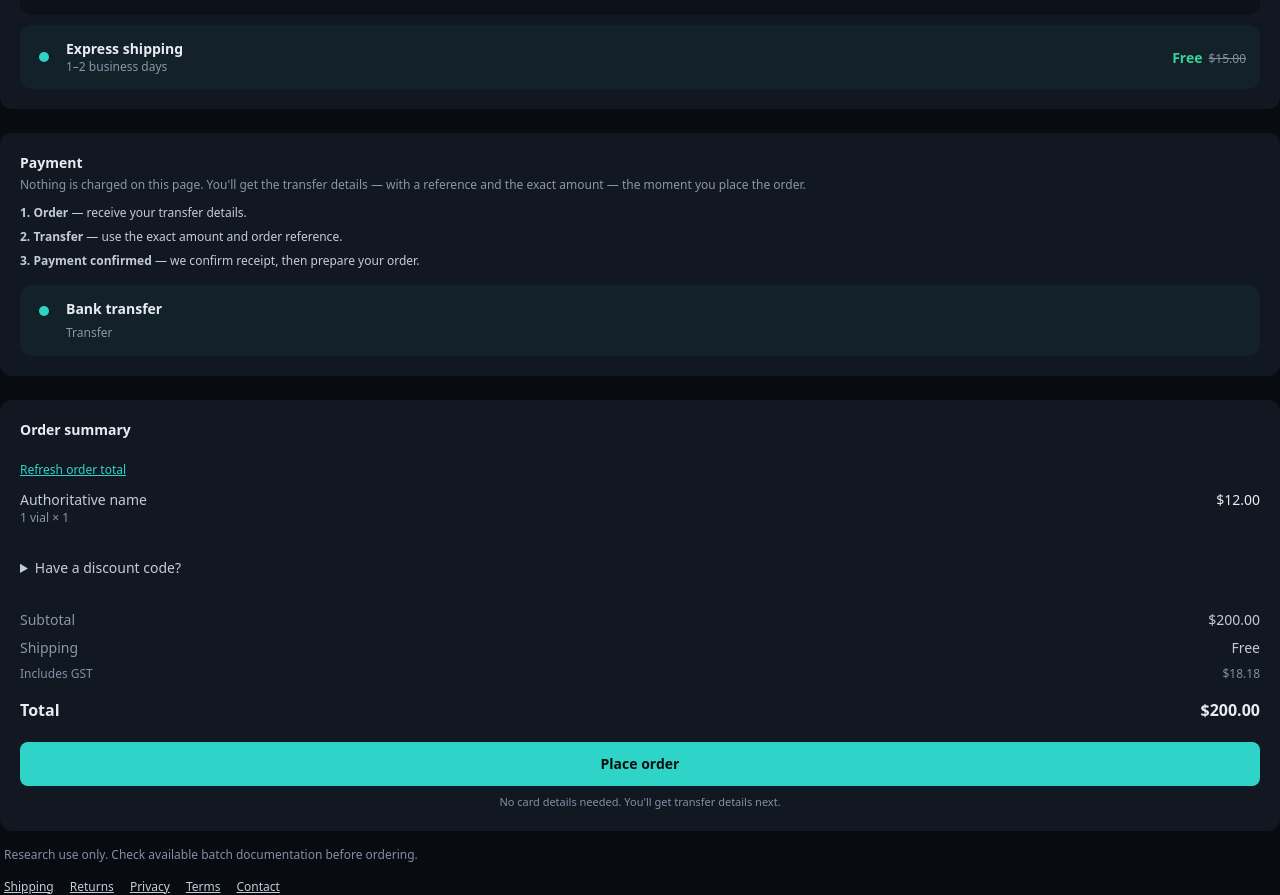
Test case: returns automatic Express to Standard after a discount removes eligibility and upgrades again when removed
(page scrolled)
Check: the radio button labelled "Express shipping 1–2 business days Free$15.00" is checked, box [20,24,1260,88]
Check: the button "Place order" is enabled, box [20,742,1260,786]
Click the heading "Have a discount code?" at [108, 568], box [35,558,181,577]
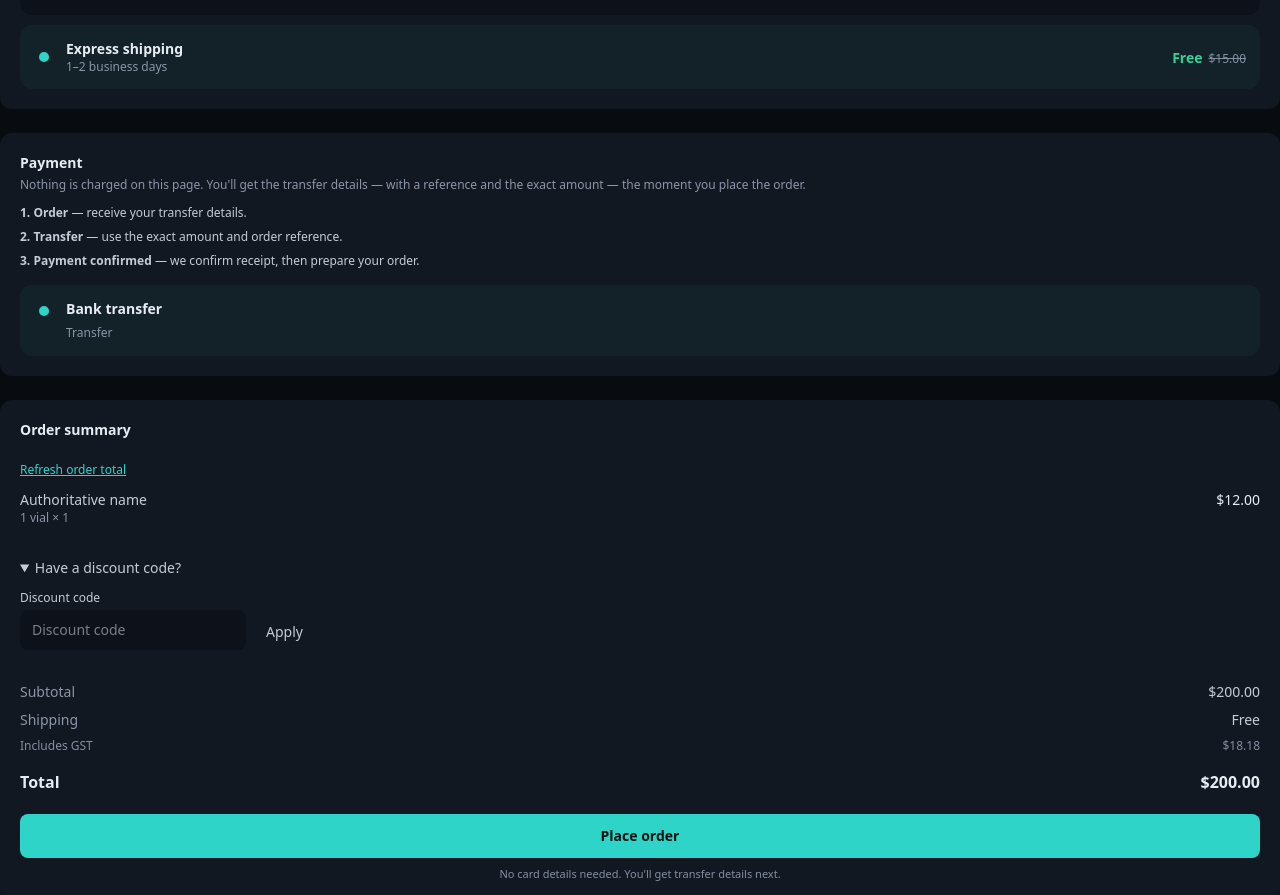
Type "TENOFF" into the field labelled "Discount code" at [133, 630], box [20,610,246,650]
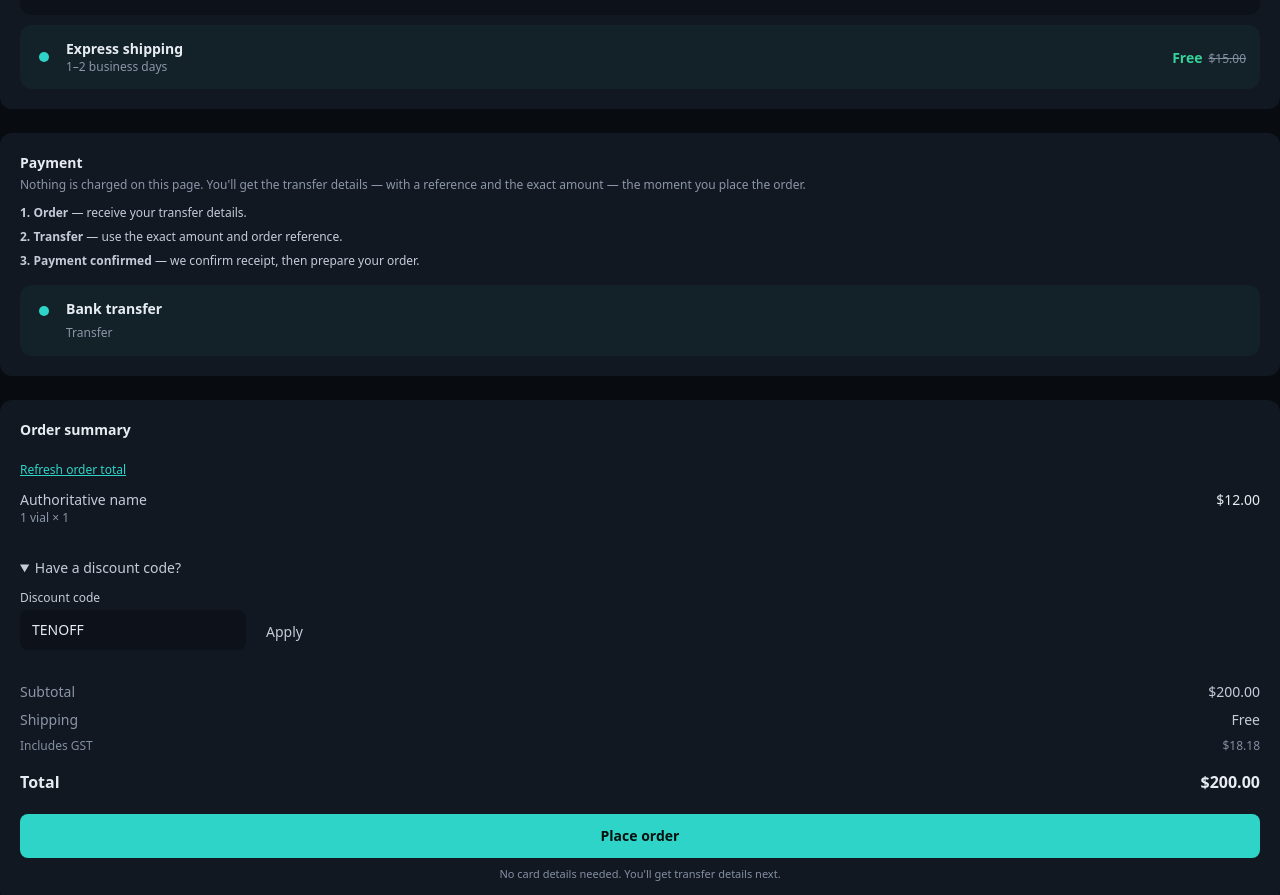
Click the button "Apply" at [284, 632], box [254,614,315,650]
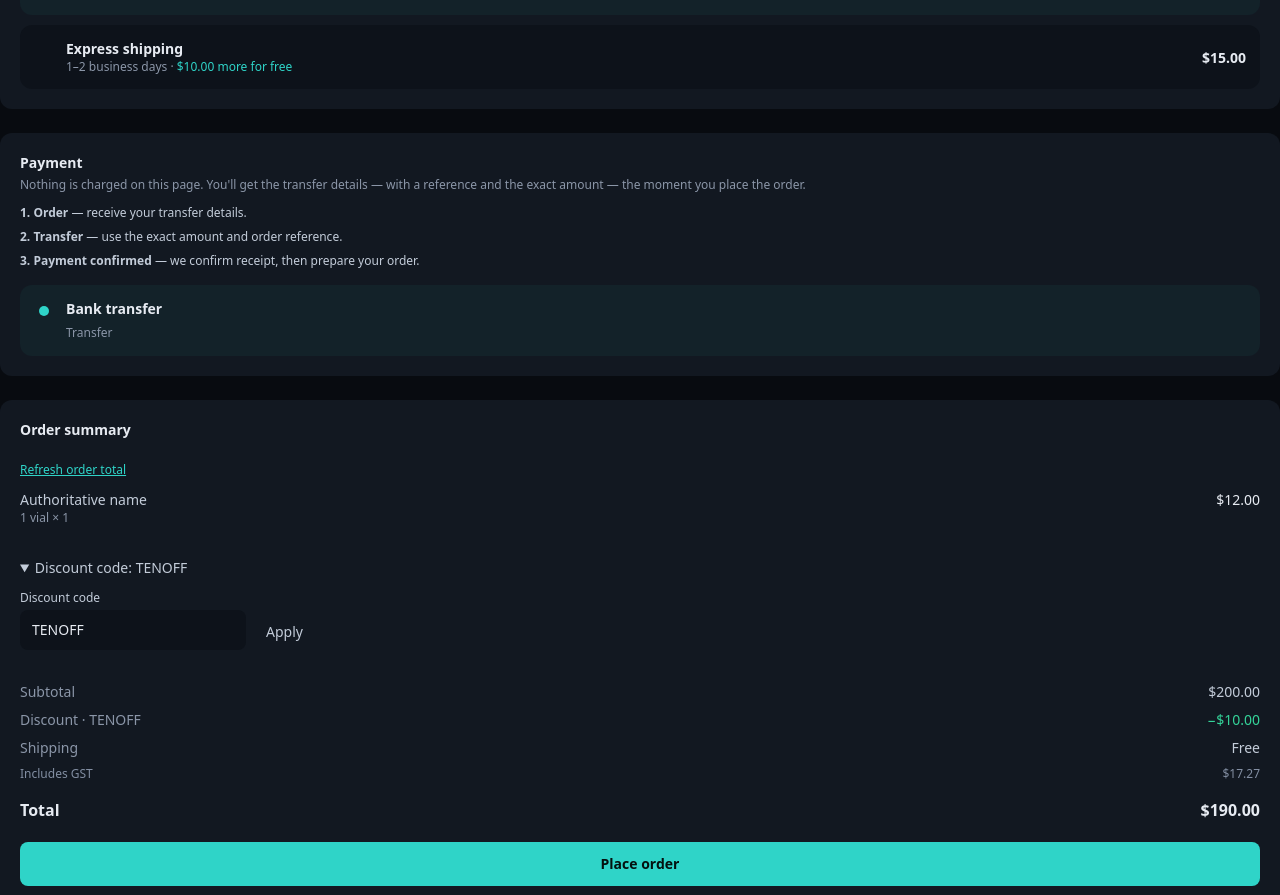
Check: the button "Place order" is enabled, box [20,842,1260,886]
Clear the field labelled "Discount code" at [133, 630], box [20,610,246,650]
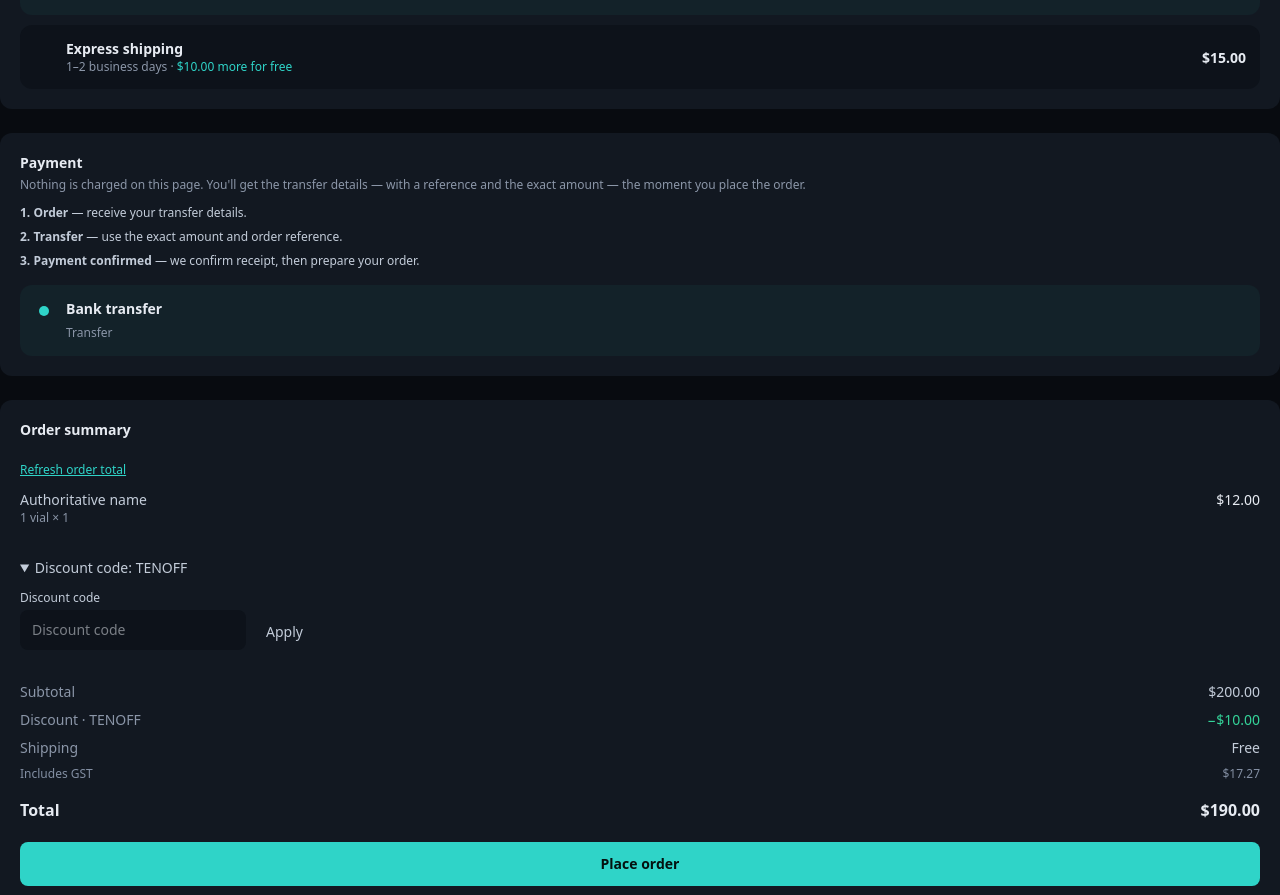
Click the button "Apply" at [284, 632], box [254,614,315,650]
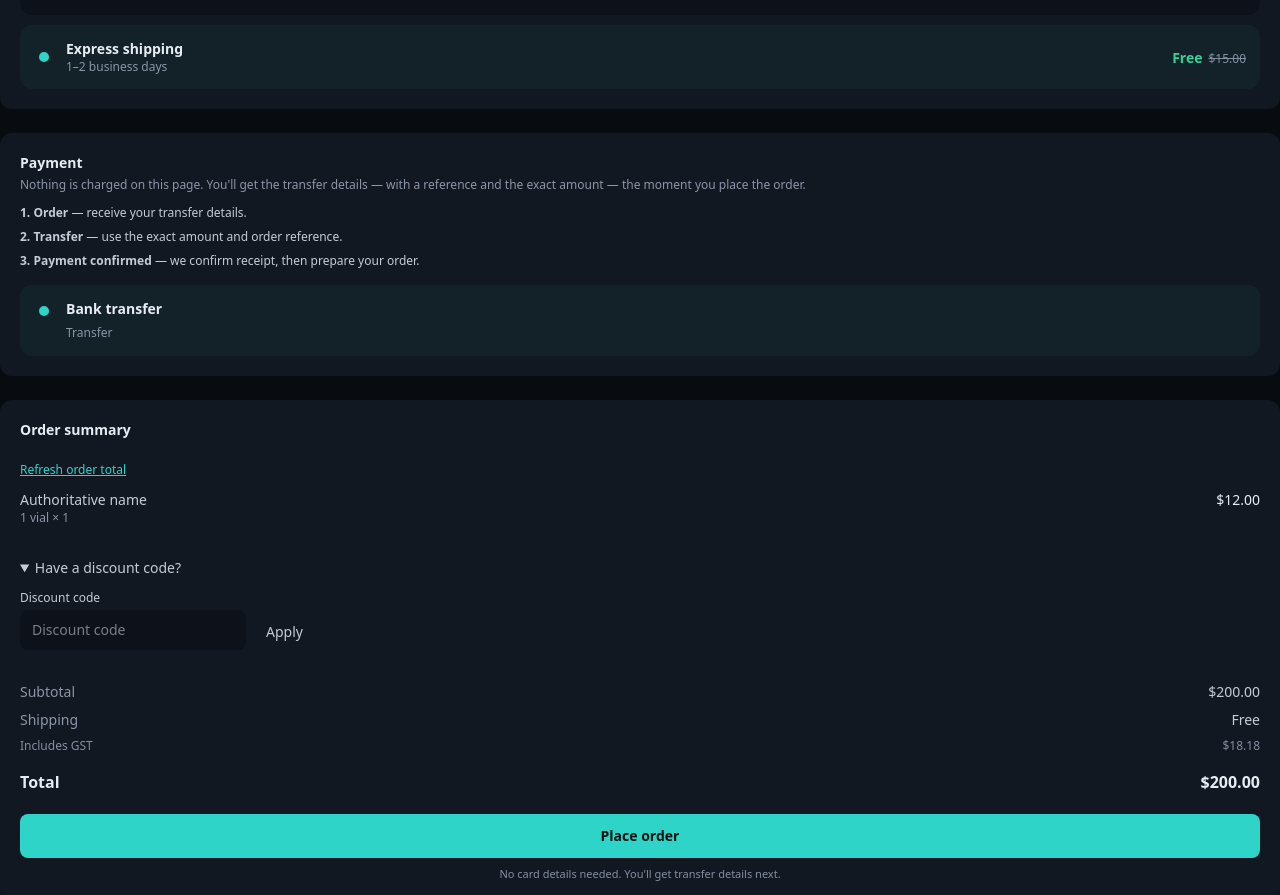
Check: the button "Place order" is enabled, box [20,814,1260,858]
Check: the radio button labelled "Express shipping 1–2 business days Free$15.00" is checked, box [20,24,1260,88]
